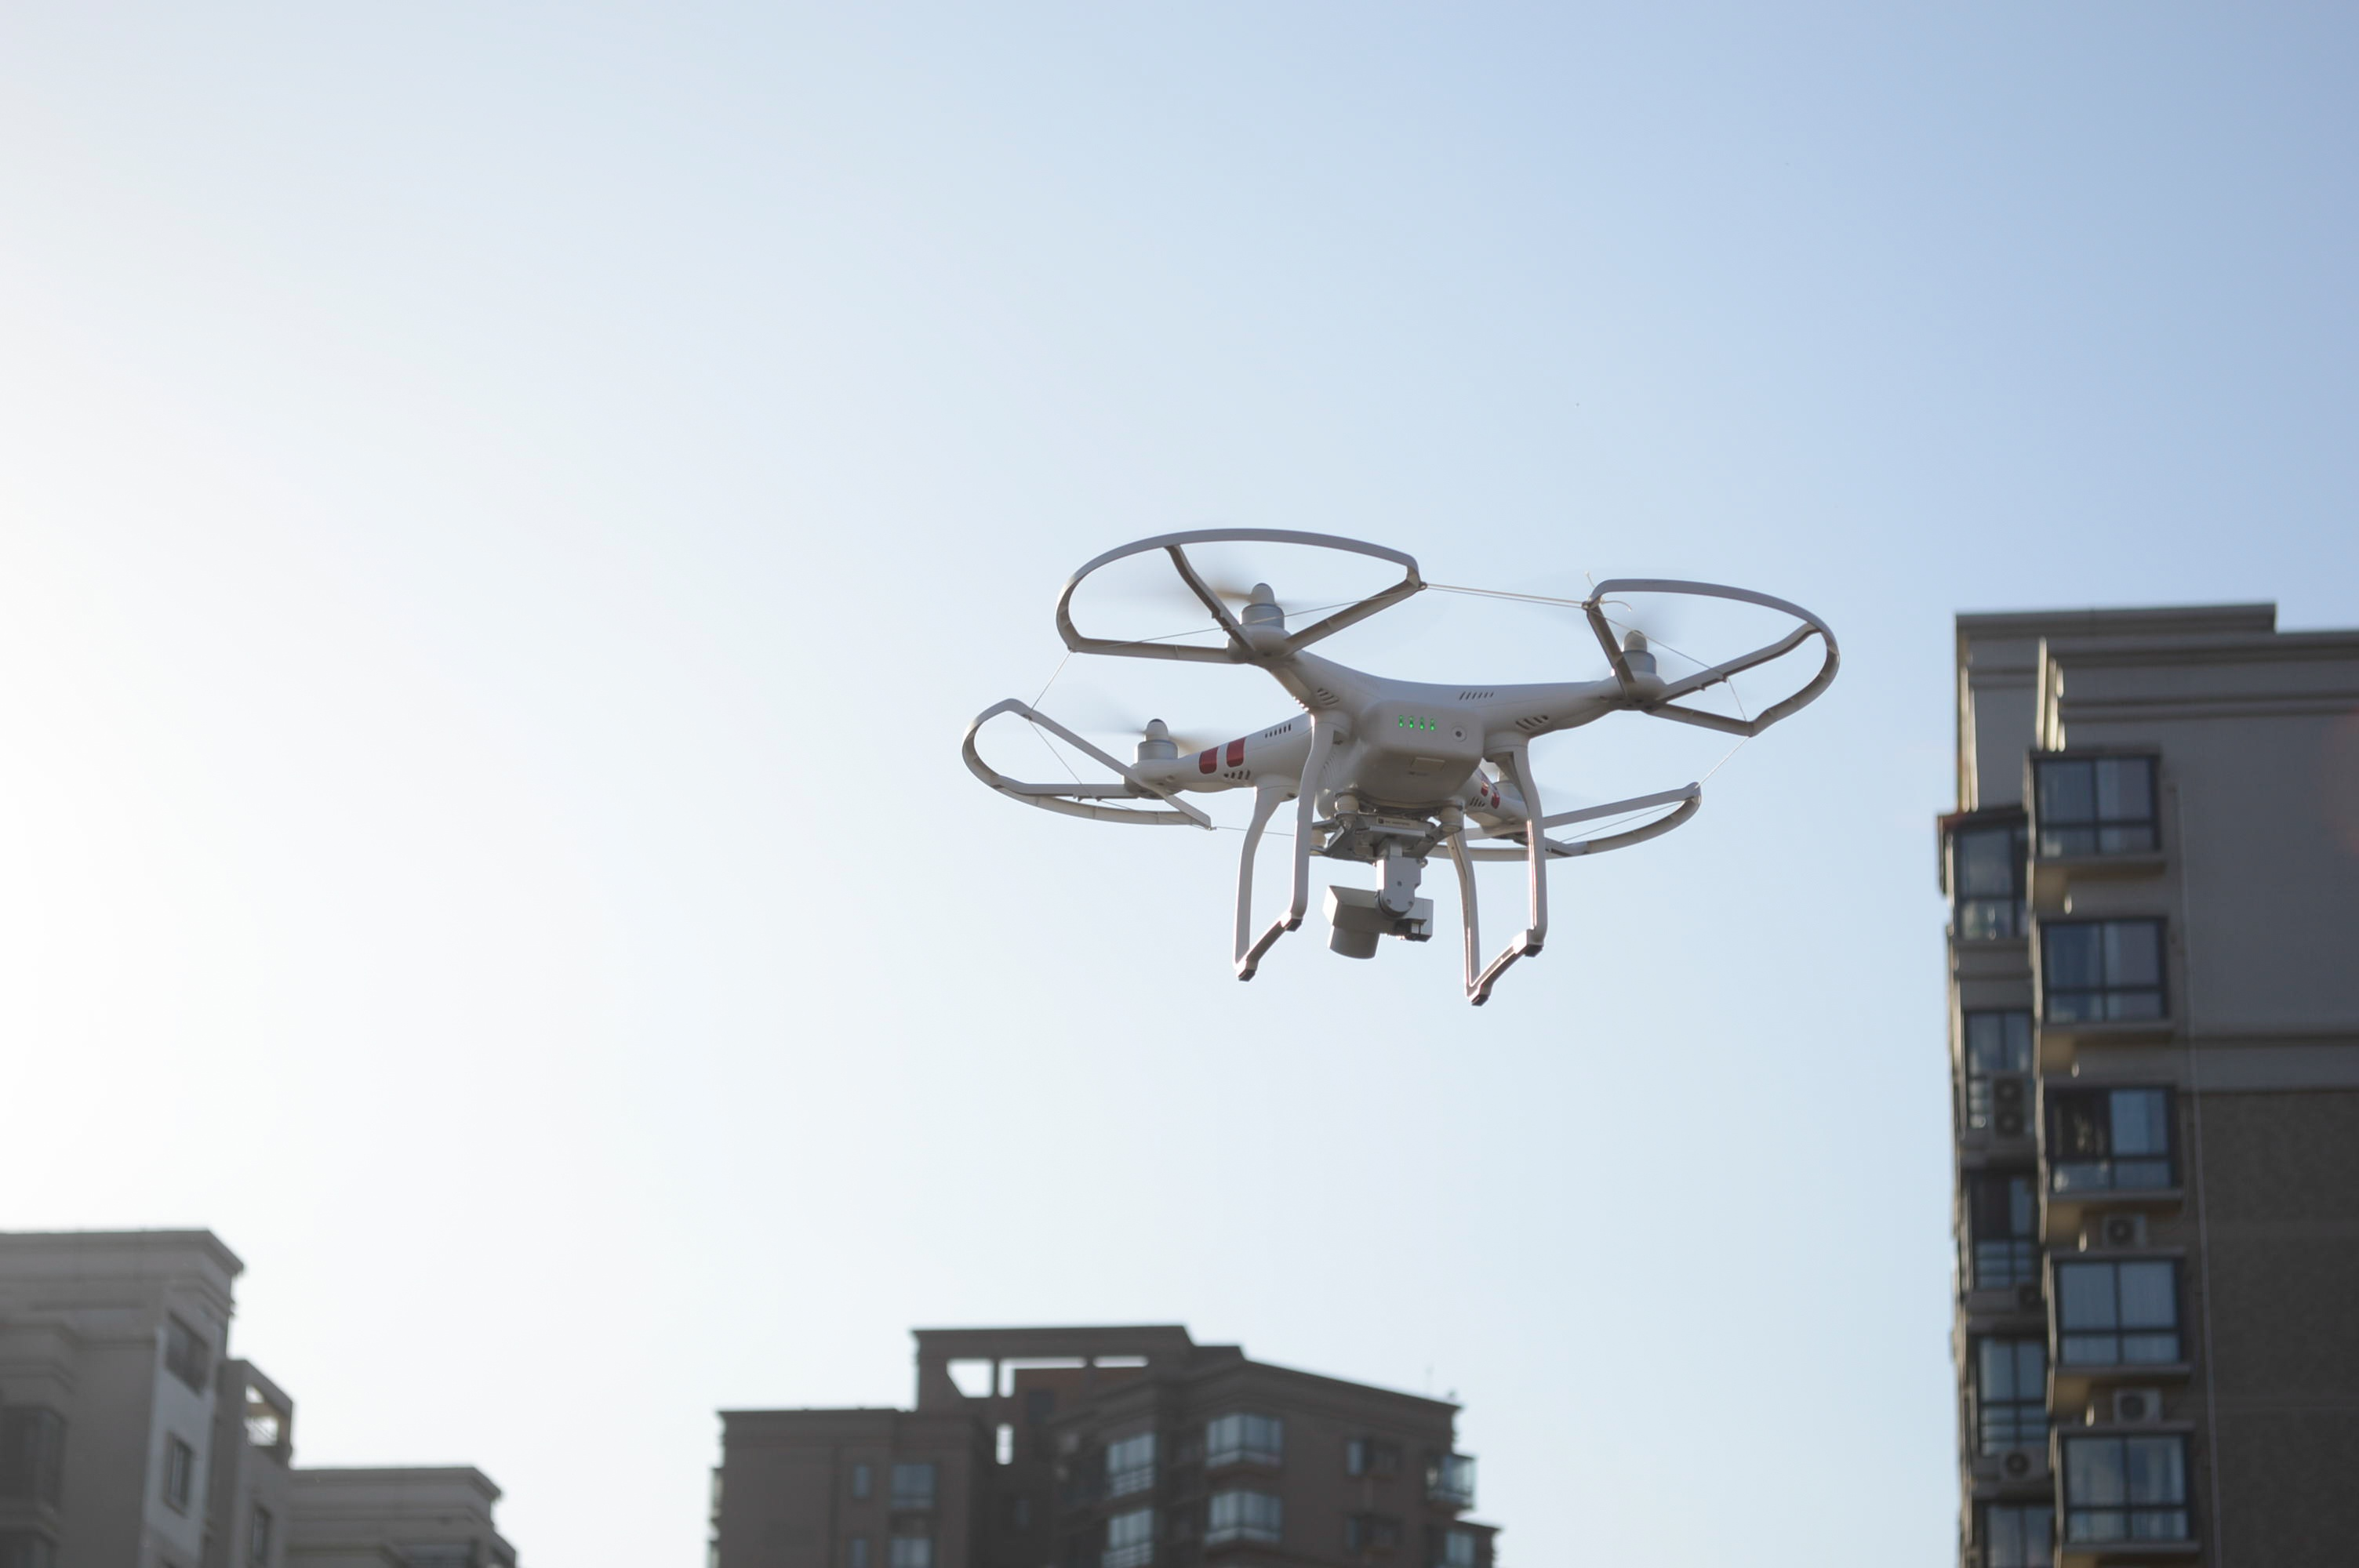DJI: (961, 525, 1843, 1008)
